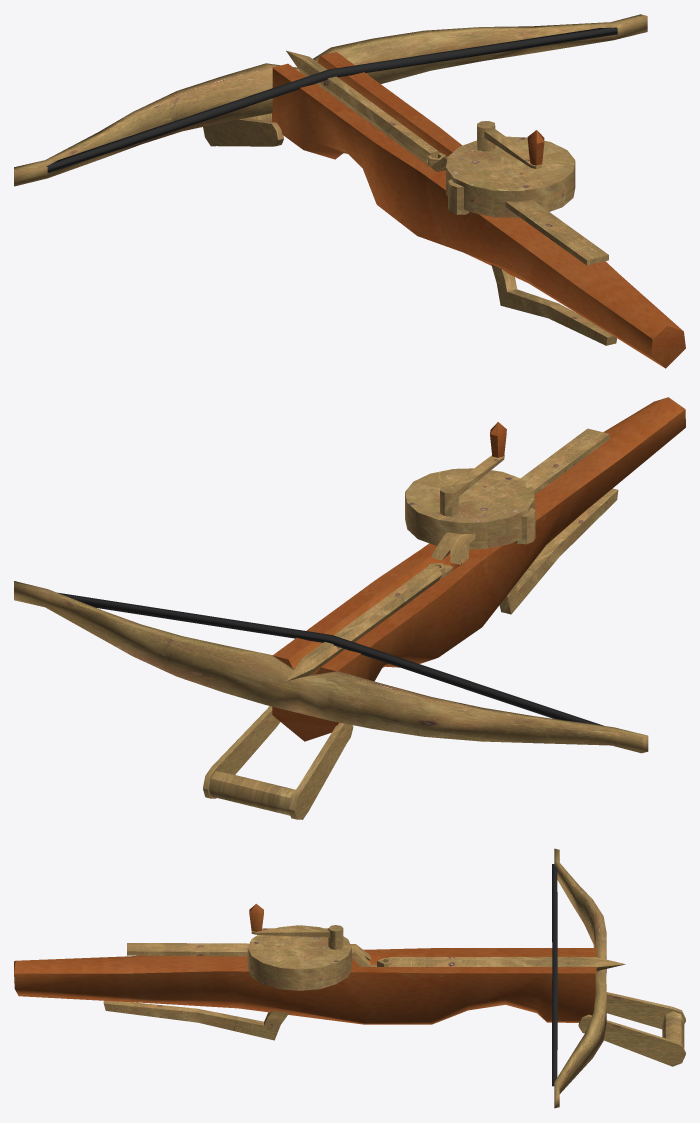
File: crossbow.gltf
3 renders of one model, top to bottom at view 1: azimuth 30°, elevation 25°; view 2: azimuth 150°, elevation 25°; view 3: azimuth 270°, elevation 25°, orthographic. The views are drawn at different scales.
Parts seen in each view (by area): view 1: stock, bow, spring, bolt, trigger, puller, crank; view 2: stock, bow, spring, bolt, puller, trigger, crank; view 3: stock, bow, spring, trigger, bolt, puller, crank.
Part boxes in pixels (<box>): stock: <box>203,52,685,368</box>; bow: <box>14,14,647,186</box>; spring: <box>446,136,575,217</box>; bolt: <box>286,50,445,166</box>; trigger: <box>491,264,616,345</box>; puller: <box>431,156,608,265</box>; crank: <box>477,121,544,169</box>; stock: <box>203,397,685,819</box>; bow: <box>14,581,648,753</box>; spring: <box>405,468,535,549</box>; bolt: <box>286,563,445,681</box>; puller: <box>431,428,609,564</box>; trigger: <box>499,488,618,614</box>; crank: <box>440,422,506,516</box>; stock: <box>14,948,685,1066</box>; bow: <box>552,848,606,1108</box>; spring: <box>247,925,351,990</box>; trigger: <box>103,1000,288,1040</box>; bolt: <box>377,957,625,970</box>; puller: <box>127,943,370,966</box>; crank: <box>249,904,343,949</box>.
Size of the model in its own units: 0.746 by 0.215 by 0.857.
Materials: 5 (4 with a texture image).
